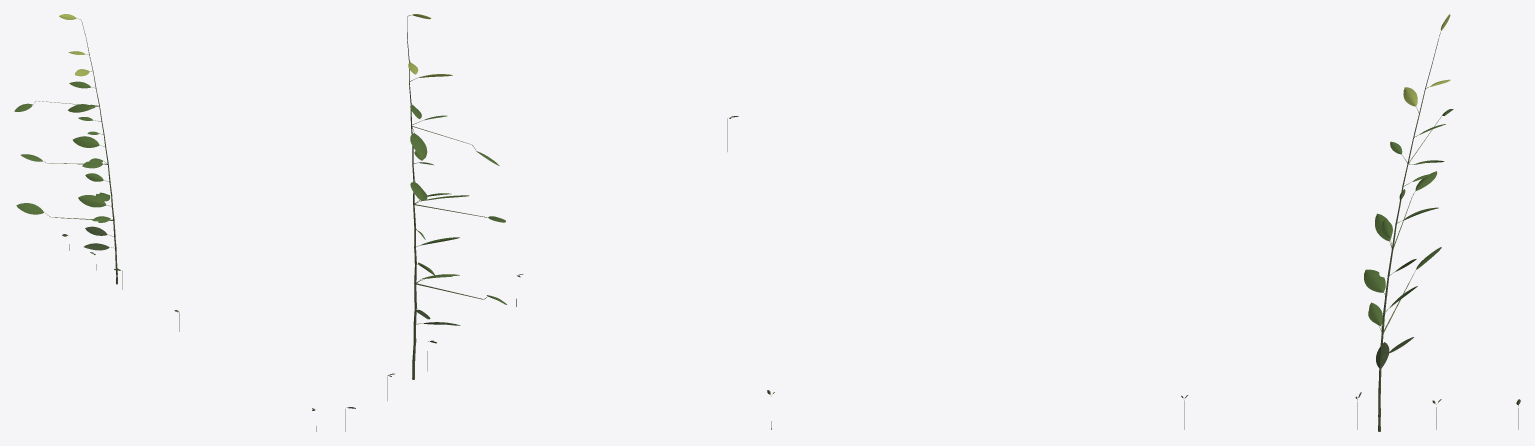
The model's file is afterlight-vegetation.glb.
The picture shows the model from 3 angles, left to right: view 1: azimuth 30°, elevation 25°; view 2: azimuth 150°, elevation 25°; view 3: azimuth 270°, elevation 25°; orthographic projection. The views are drawn at different scales.
Bounding box in the file's own units: 0.4482 × 1.37 × 2.39.
